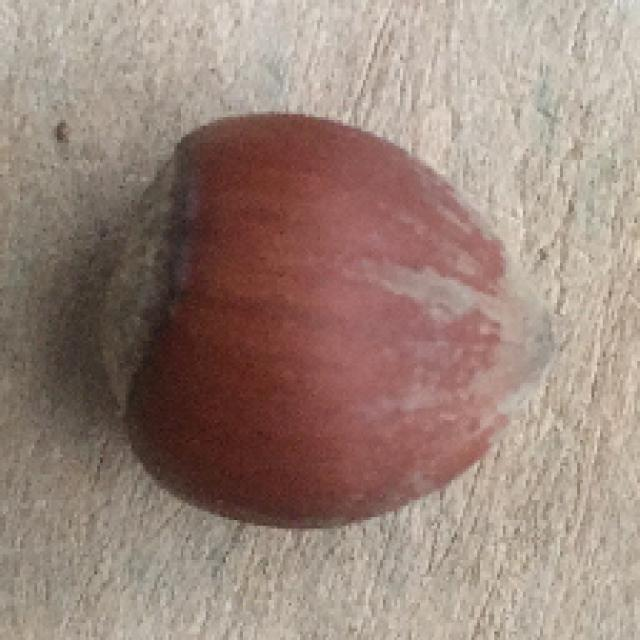QualityHazelnut: (92, 113, 561, 535)
